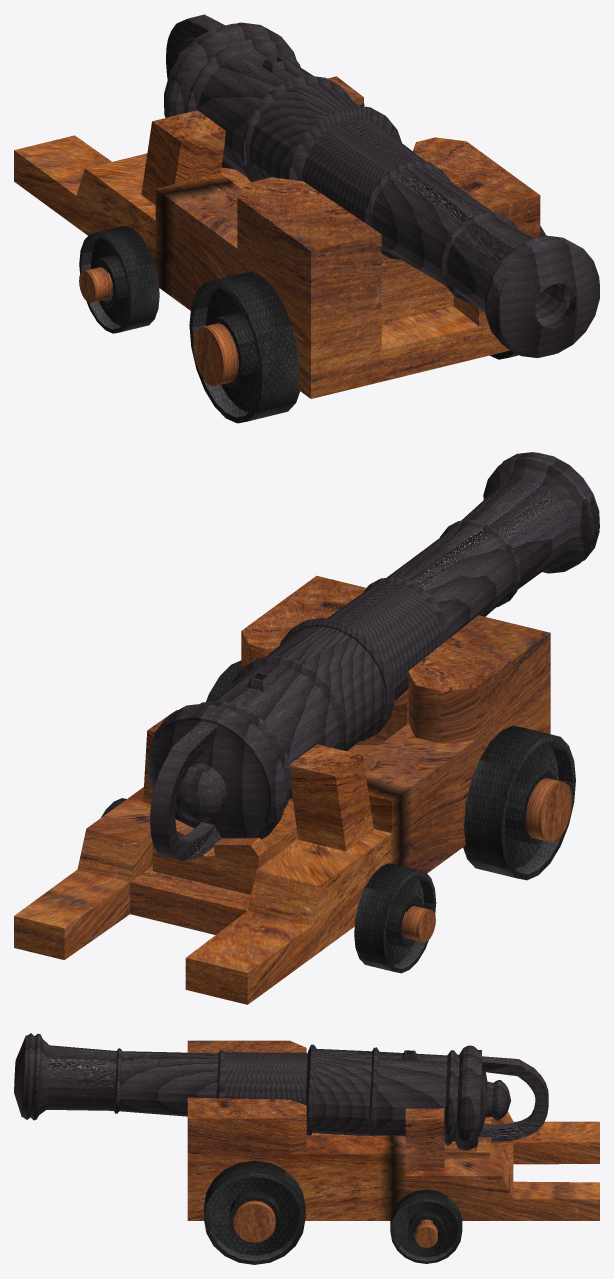
Rendered from Cannon.fbx.
The picture shows the model from 3 angles, top to bottom: view 1: azimuth 30°, elevation 25°; view 2: azimuth 150°, elevation 25°; view 3: azimuth 270°, elevation 25°; orthographic projection. The views are drawn at different scales.
Parts seen in each view (by area): view 1: pCube1, pPipe1, pCylinder10, pCylinder7, polySurface2, polySurface1; view 2: pCube1, pPipe1, pCylinder10, pCylinder7, polySurface2, polySurface1; view 3: pPipe1, pCube1, pCylinder11, pCylinder12, polySurface2, polySurface1.
Boxes of the visible parts, x1,y1,x2,y2 form: pCube1: [14, 76, 540, 398]; pPipe1: [164, 14, 599, 357]; pCylinder10: [189, 271, 300, 423]; pCylinder7: [79, 225, 159, 333]; polySurface2: [193, 323, 238, 386]; polySurface1: [79, 267, 113, 302]; pCube1: [14, 575, 550, 1004]; pPipe1: [147, 452, 599, 861]; pCylinder10: [463, 725, 575, 880]; pCylinder7: [354, 863, 436, 973]; polySurface2: [525, 778, 572, 842]; polySurface1: [401, 905, 435, 942]; pPipe1: [14, 1033, 548, 1150]; pCube1: [187, 1040, 599, 1220]; pCylinder11: [204, 1160, 305, 1264]; pCylinder12: [390, 1189, 462, 1263]; polySurface2: [233, 1200, 275, 1242]; polySurface1: [415, 1219, 437, 1247].
Bounding box in the file's own units: 2.6 × 1.94 × 5.72.
Materials: 3 (3 with a texture image).
